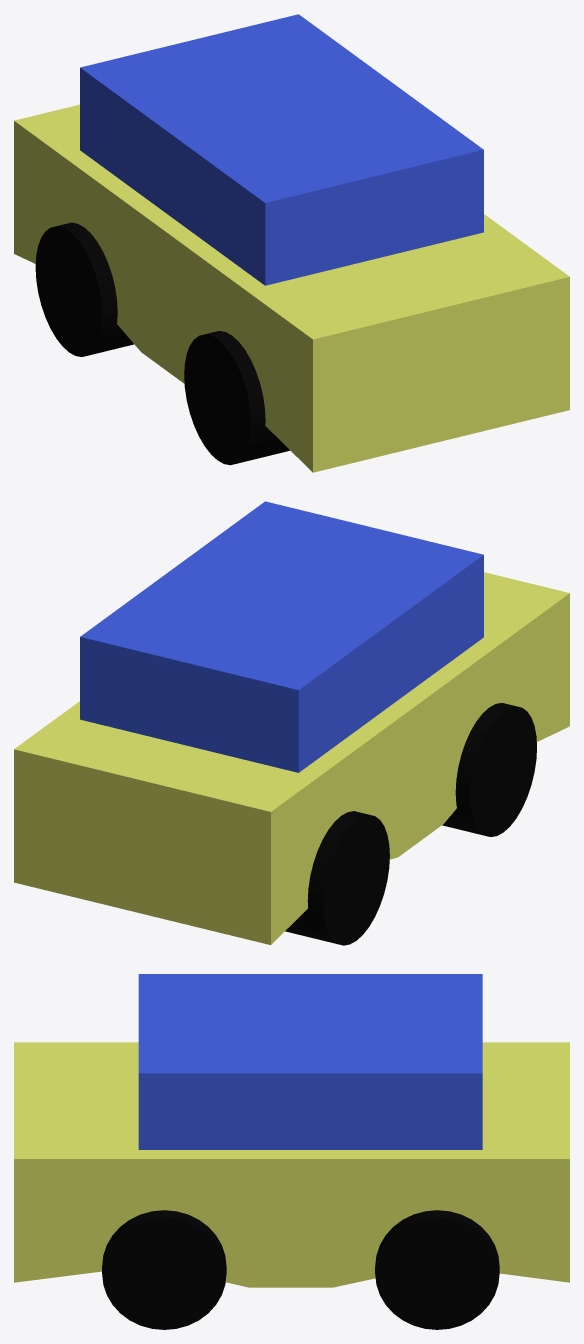
File: Car.glb
3 renders of one model, top to bottom at view 1: azimuth 30°, elevation 25°; view 2: azimuth 150°, elevation 25°; view 3: azimuth 270°, elevation 25°, orthographic. The views are drawn at different scales.
Visible parts, largest first — view 1: Cube, Cube.001, Cylinder.003, Cylinder; view 2: Cube, Cube.001, Cylinder, Cylinder.003; view 3: Cube, Cube.001, Cylinder.001, Cylinder.002.
Part boxes in pixels (x1,y1,x2,y2): Cube: (14, 104, 569, 472); Cube.001: (80, 14, 483, 285); Cylinder.003: (184, 331, 289, 465); Cylinder: (35, 222, 133, 356); Cube: (14, 572, 569, 944); Cube.001: (80, 501, 483, 772); Cylinder: (285, 811, 389, 945); Cylinder.003: (442, 703, 536, 836); Cube: (14, 1042, 569, 1287); Cube.001: (138, 974, 482, 1149); Cylinder.001: (375, 1210, 499, 1329); Cylinder.002: (102, 1210, 226, 1329).
Bounding box in the file's own units: 1.06 × 0.9158 × 1.91.
